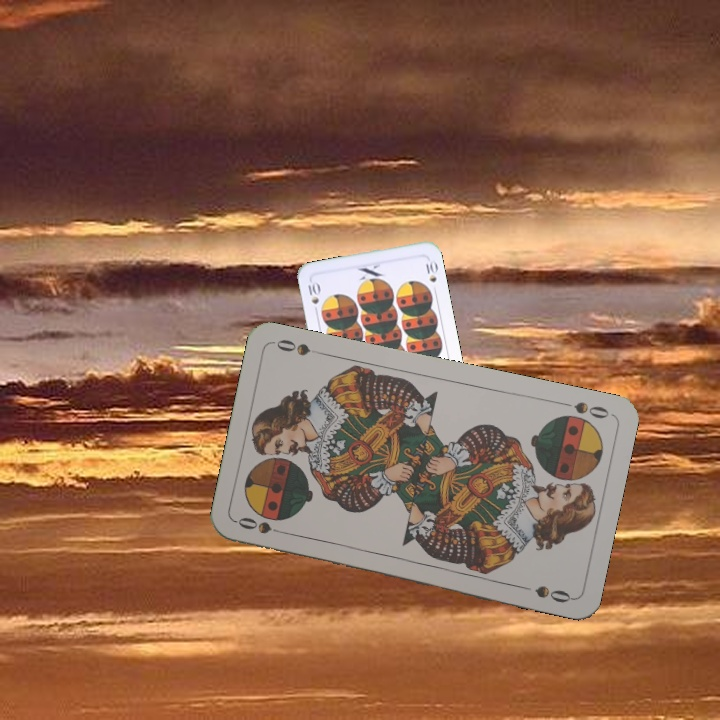S10: (302, 277, 322, 317)
SO: (233, 513, 292, 538), (555, 397, 612, 422)
